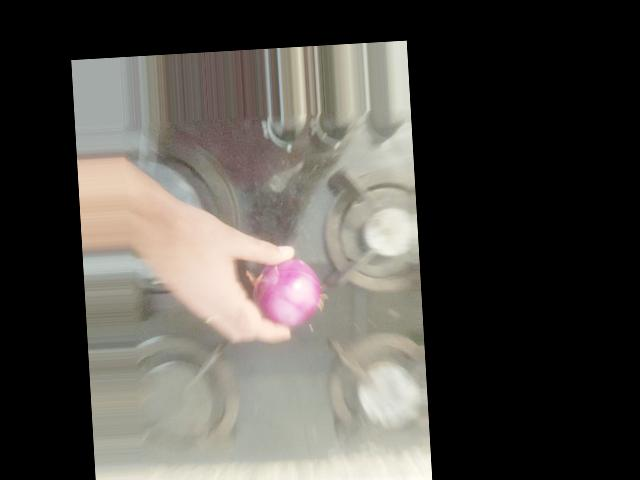onion: (235, 237, 319, 328)
